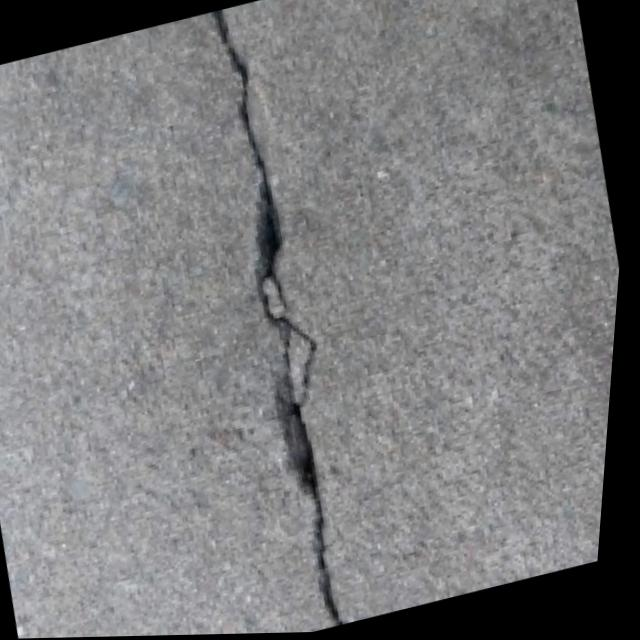Crack: (140, 0, 446, 637)
